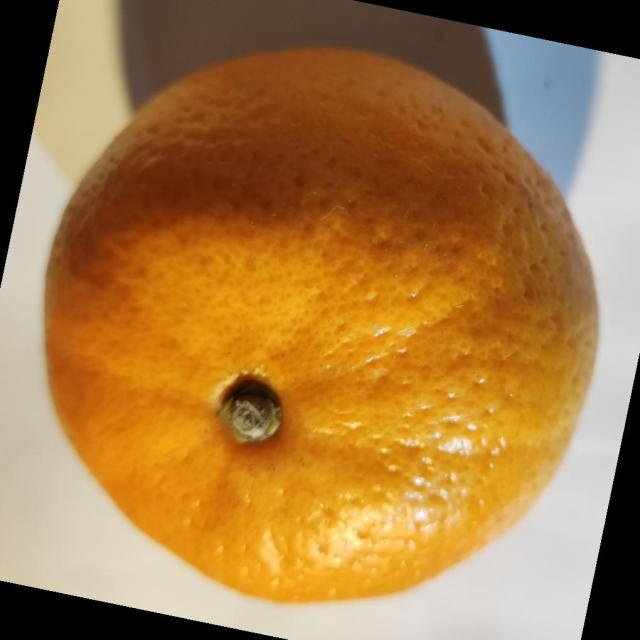agrume: (41, 44, 600, 604)
